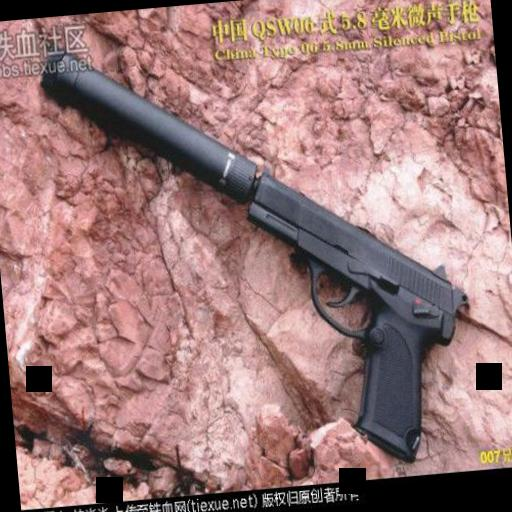Handgun: (235, 136, 480, 476)
